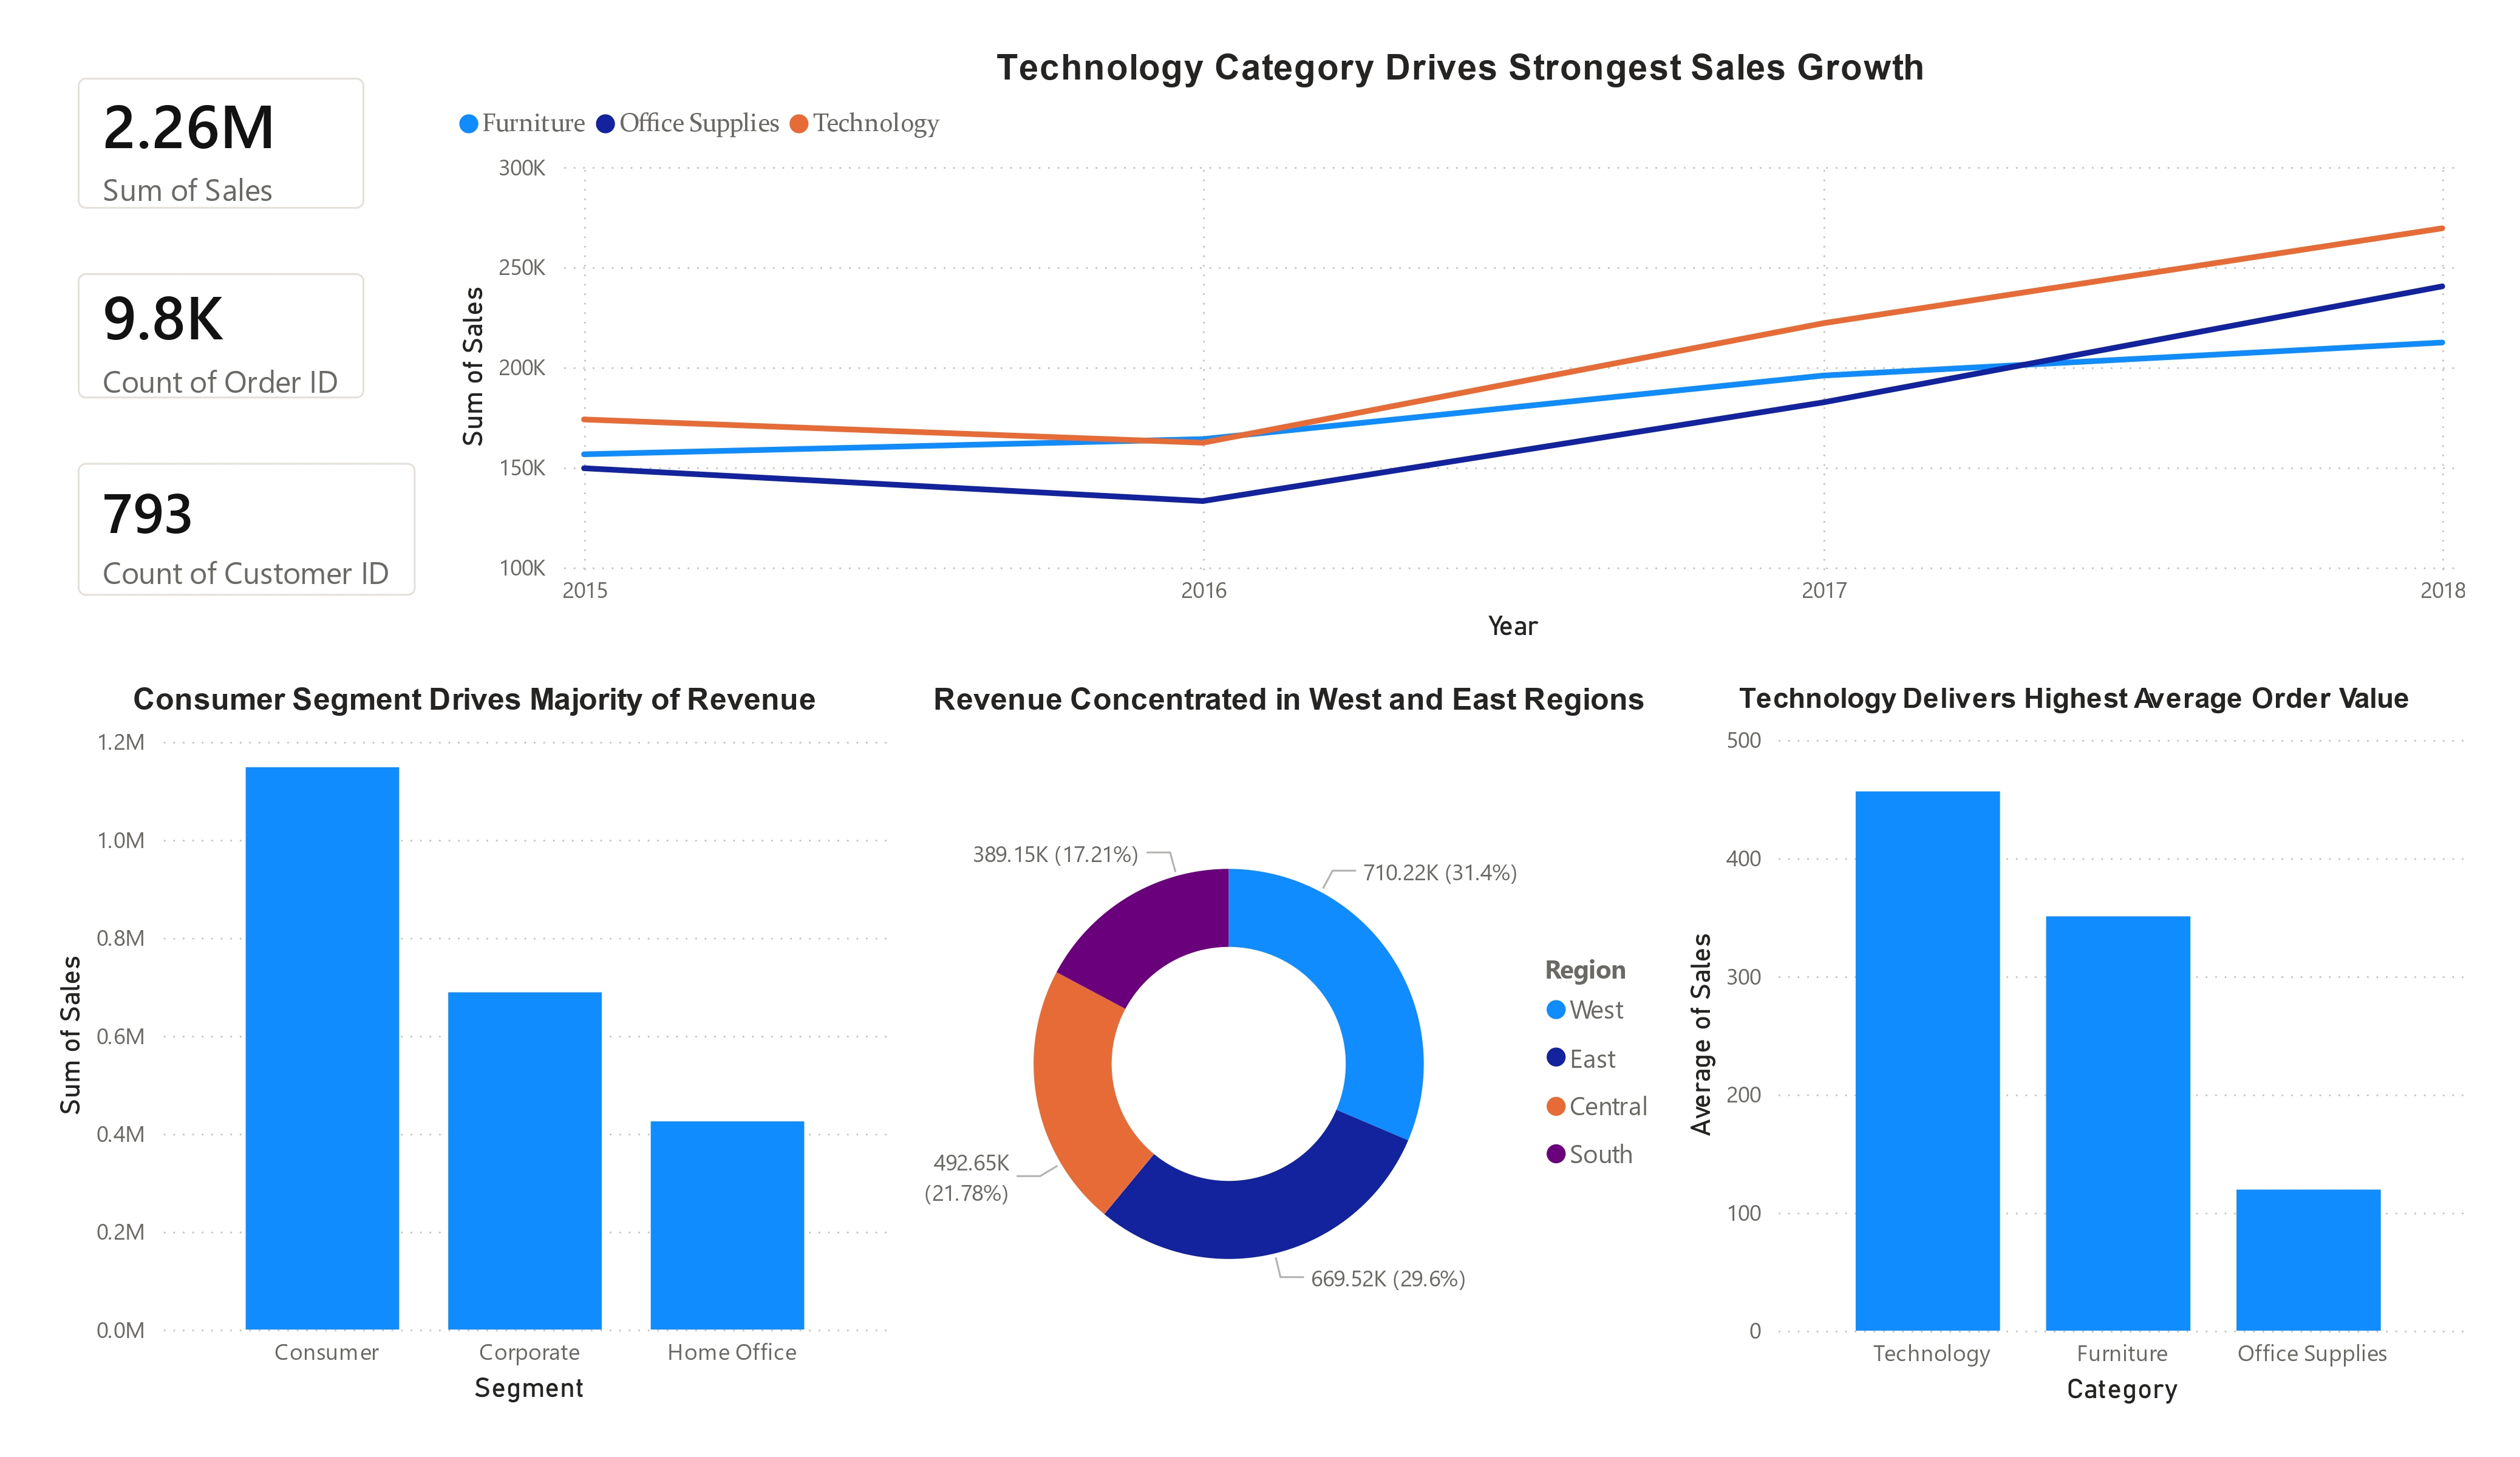

What the dashboard file says about the page in this screenshot:
{"tool":"powerbi","page":{"name":"Dashboard","canvas":[1280,720],"ordinal":0},"visuals":[{"type":"clusteredColumnChart","title":"Technology Delivers Highest Average Order Value","fields":{"Category":["train.Category"],"Y":["Avg(train.Sales)"]},"box":[859.3,334.9,420.9,386],"z":0},{"type":"donutChart","title":"Revenue Concentrated in West and East Regions","fields":{"Category":["train.Region"],"Y":["Sum(train.Sales)"]},"box":[452.3,334.9,407,386],"z":1000},{"type":"clusteredColumnChart","title":"Consumer Segment Drives Majority of Revenue","fields":{"Category":["train.Segment"],"Y":["Sum(train.Sales)"]},"box":[0,334.9,452.3,386],"z":2000},{"type":"lineChart","title":"Technology Category Drives Strongest Sales Growth","fields":{"Y":["Sum(train.Sales)"],"Series":["train.Category"],"Category":["train.Order Date.Variation.Date Hierarchy.Year"]},"box":[211.6,0,1068.6,318.6],"z":3000},{"type":"cardVisual","fields":{"Data":["Sum(train.Sales)"]},"box":[0,0,184.9,103.5],"z":4000},{"type":"cardVisual","fields":{"Data":["CountNonNull(train.Order ID)"]},"box":[0,103.5,184.9,100],"z":5000},{"type":"cardVisual","fields":{"Data":["Count(train.Customer ID)"]},"box":[0,203.5,211.6,103.5],"z":6000}]}

Visuals, with their boxes on the page's 1280x720 design canvas (x1, y1, x2, y2). These are canvas units, not pixel positions in the 2520x1457 screenshot, which may show the page scaled, cropped or inside an application window:
"Technology Delivers Highest Average Order Value" clusteredColumnChart: box(859, 335, 1280, 721)
"Revenue Concentrated in West and East Regions" donutChart: box(452, 335, 859, 721)
"Consumer Segment Drives Majority of Revenue" clusteredColumnChart: box(0, 335, 452, 721)
"Technology Category Drives Strongest Sales Growth" lineChart: box(212, 0, 1280, 319)
cardVisual - Sum(train.Sales): box(0, 0, 185, 104)
cardVisual - CountNonNull(train.Order ID): box(0, 104, 185, 204)
cardVisual - Count(train.Customer ID): box(0, 204, 212, 307)
